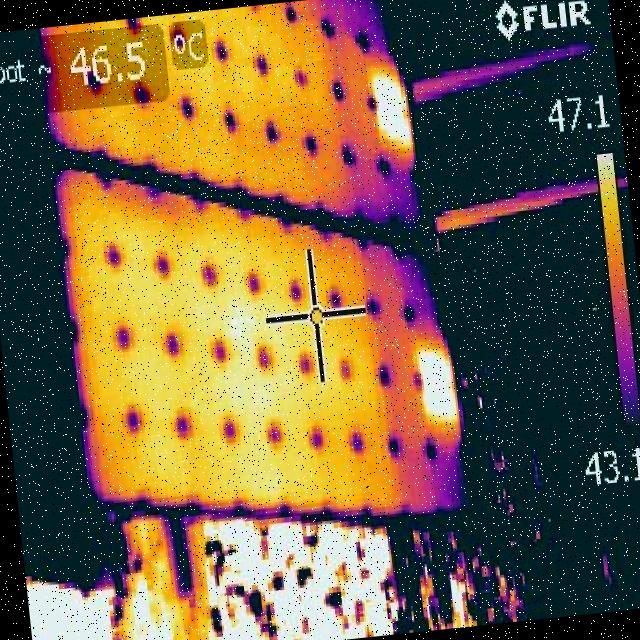Hotspot: (414, 344, 464, 429), (370, 64, 412, 148)
